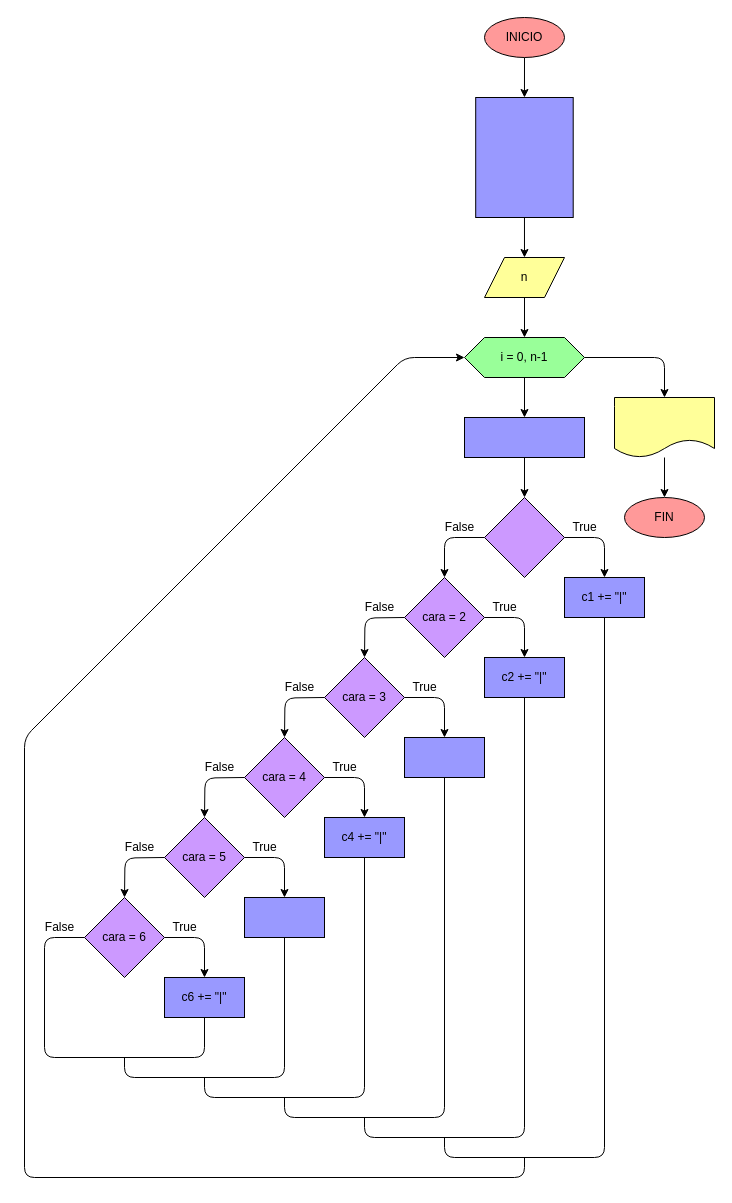
This 732x1203 diagram has some shape labels left out. Each missing label, with the centre of its shape:
c1, c2, c3, c4, c5, c6: point 664,427
c3 += "|": point 444,757
c5 += "|": point 284,917
cara = 1: point 524,537
cara = randint(1, 6): point 524,437
import randint c1 = "" c2 = "" c3 = "" c4 = "" c5 = "" c6 = "": point 524,157
